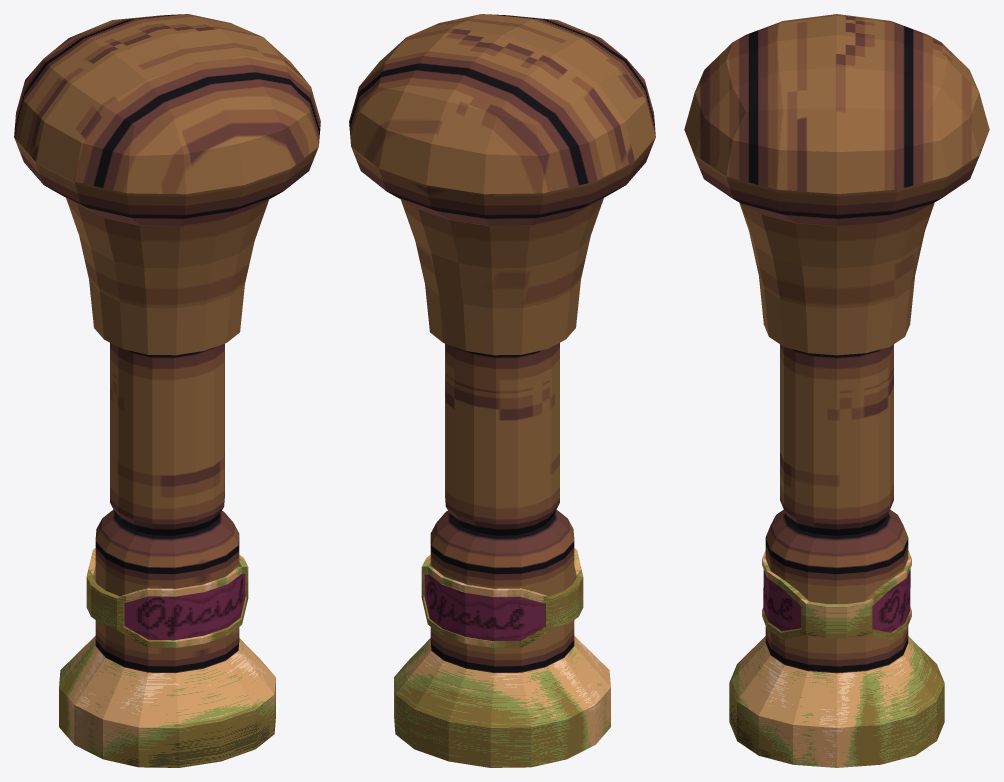
Rendered from CarimboComTexture.fbx.
The picture shows the model from 3 angles, left to right: view 1: azimuth 30°, elevation 25°; view 2: azimuth 150°, elevation 25°; view 3: azimuth 270°, elevation 25°; orthographic projection.
Parts seen in each view (by area): view 1: Cube.004; view 2: Cube.004; view 3: Cube.004.
Boxes of the visible parts, <box> form: Cube.004: <box>14,14,320,767</box>; Cube.004: <box>349,14,655,767</box>; Cube.004: <box>684,14,989,767</box>.
Size of the model in its own units: 144 by 359 by 144.
Materials: 3 (3 with a texture image).
